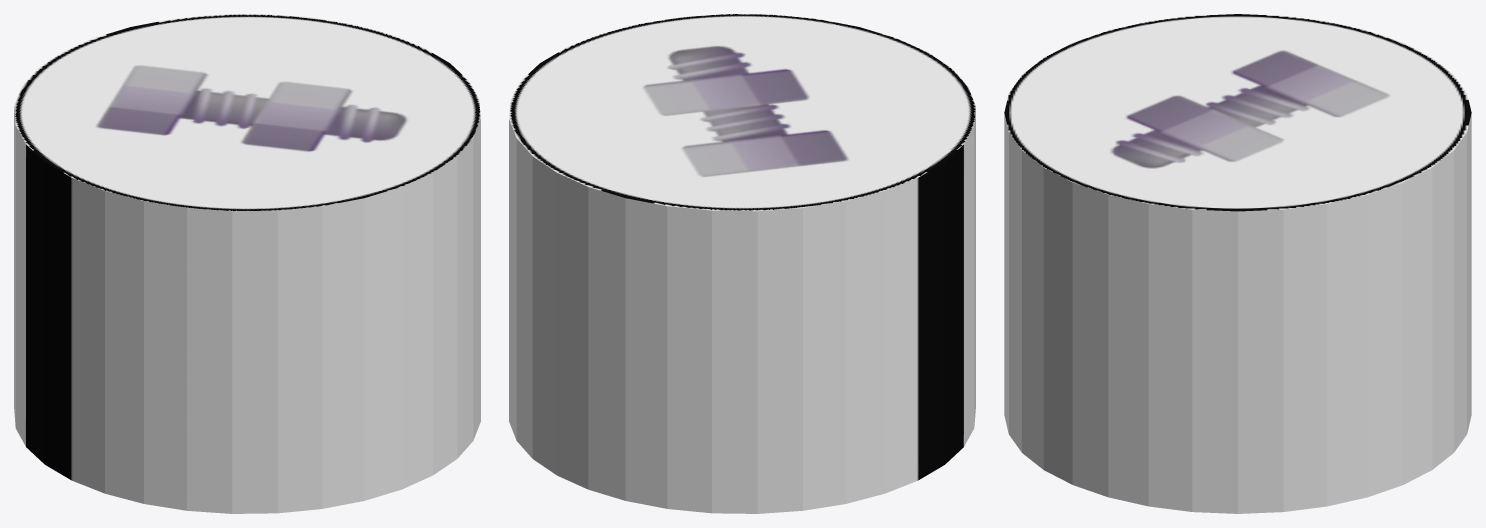
File: screw_pickup_obj.glb
The picture shows the model from 3 angles, left to right: view 1: azimuth 30°, elevation 25°; view 2: azimuth 150°, elevation 25°; view 3: azimuth 270°, elevation 25°; orthographic projection.
Parts seen in each view (by area): view 1: Cylinder; view 2: Cylinder; view 3: Cylinder.
Part boxes in pixels (x1,y1,x2,y2): Cylinder: (14, 14, 480, 513); Cylinder: (509, 14, 975, 513); Cylinder: (1004, 14, 1471, 513).
Bounding box in the file's own units: 0.14 × 0.1 × 0.14.
1 material, 1 textured.
